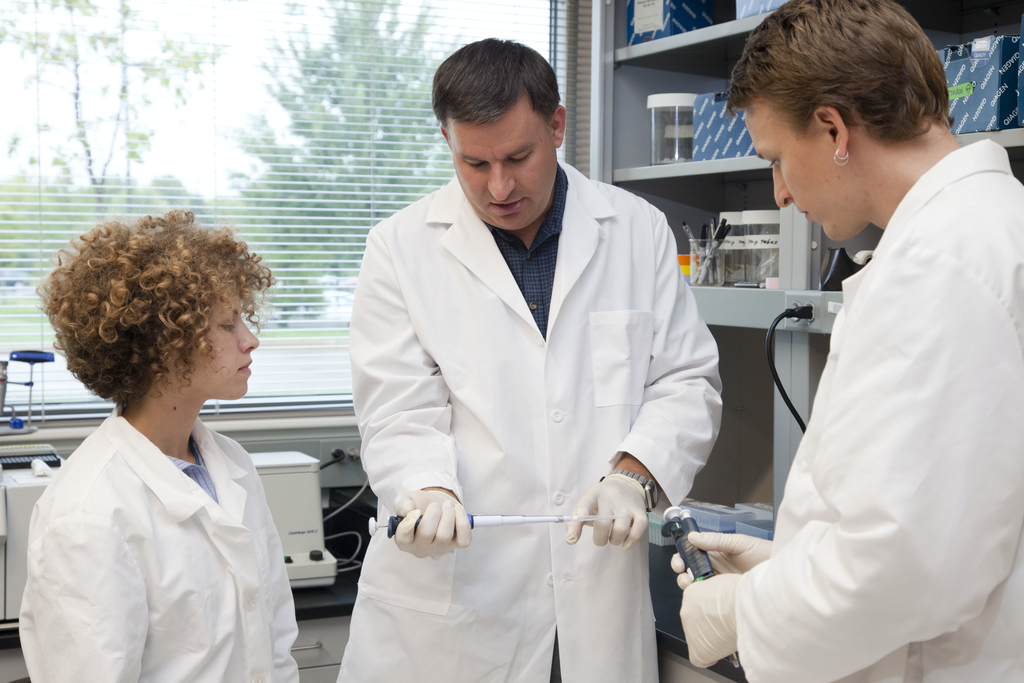Person: (336, 36, 721, 683), (670, 0, 1024, 683), (18, 206, 299, 683)
